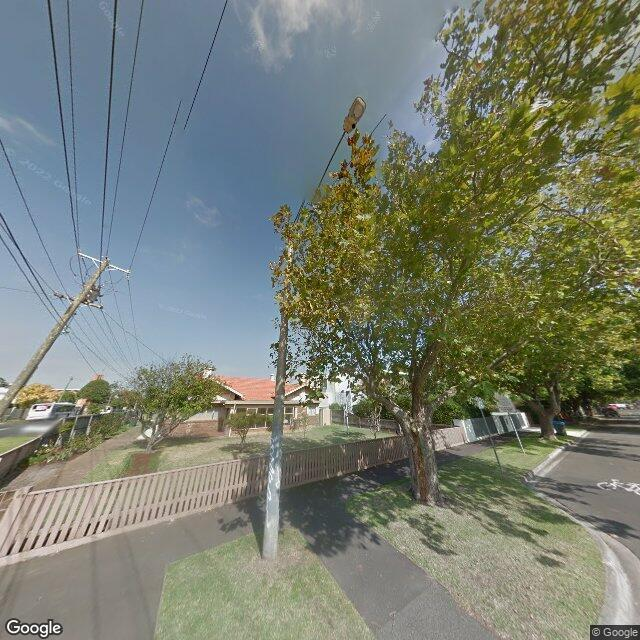crossarm: (77, 251, 131, 275), (54, 294, 103, 310)
steel-pole: (261, 226, 299, 558)
streetlight: (282, 95, 368, 324)
timber-pole: (0, 256, 112, 418)
